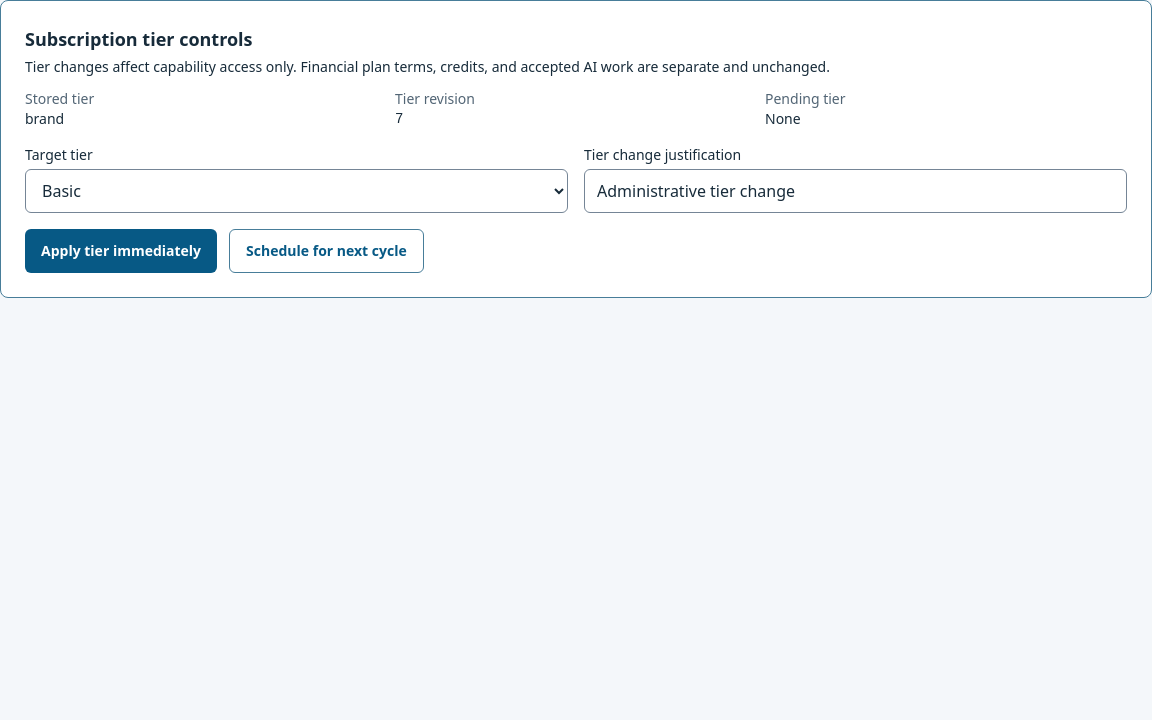
Test: SubscriptionTierControls › offers only configured paid targets and binds the approved server-owned downgrade copy
Step 1. Click the button "Schedule for next cycle" → (326, 251), box [229, 229, 424, 273]
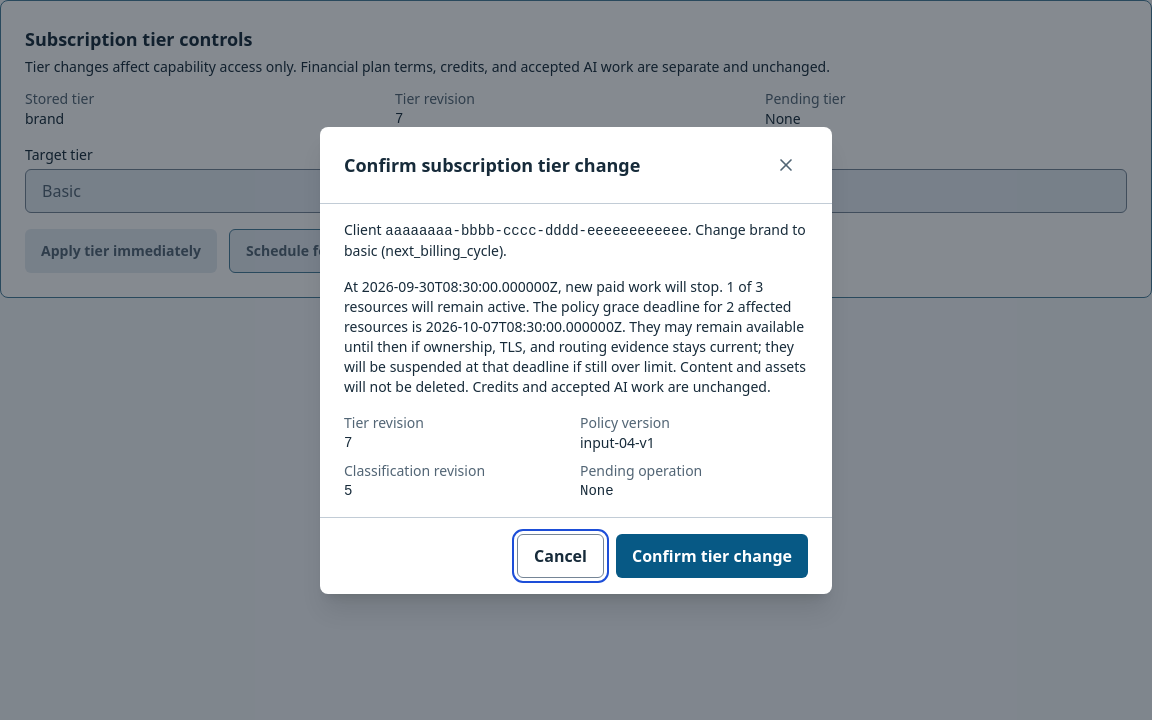
Expected: the dialog "Confirm subscription tier change" shows "They may remain available until then if ownership, TLS, and routing evidence stays current", [344, 316, 806, 396]
